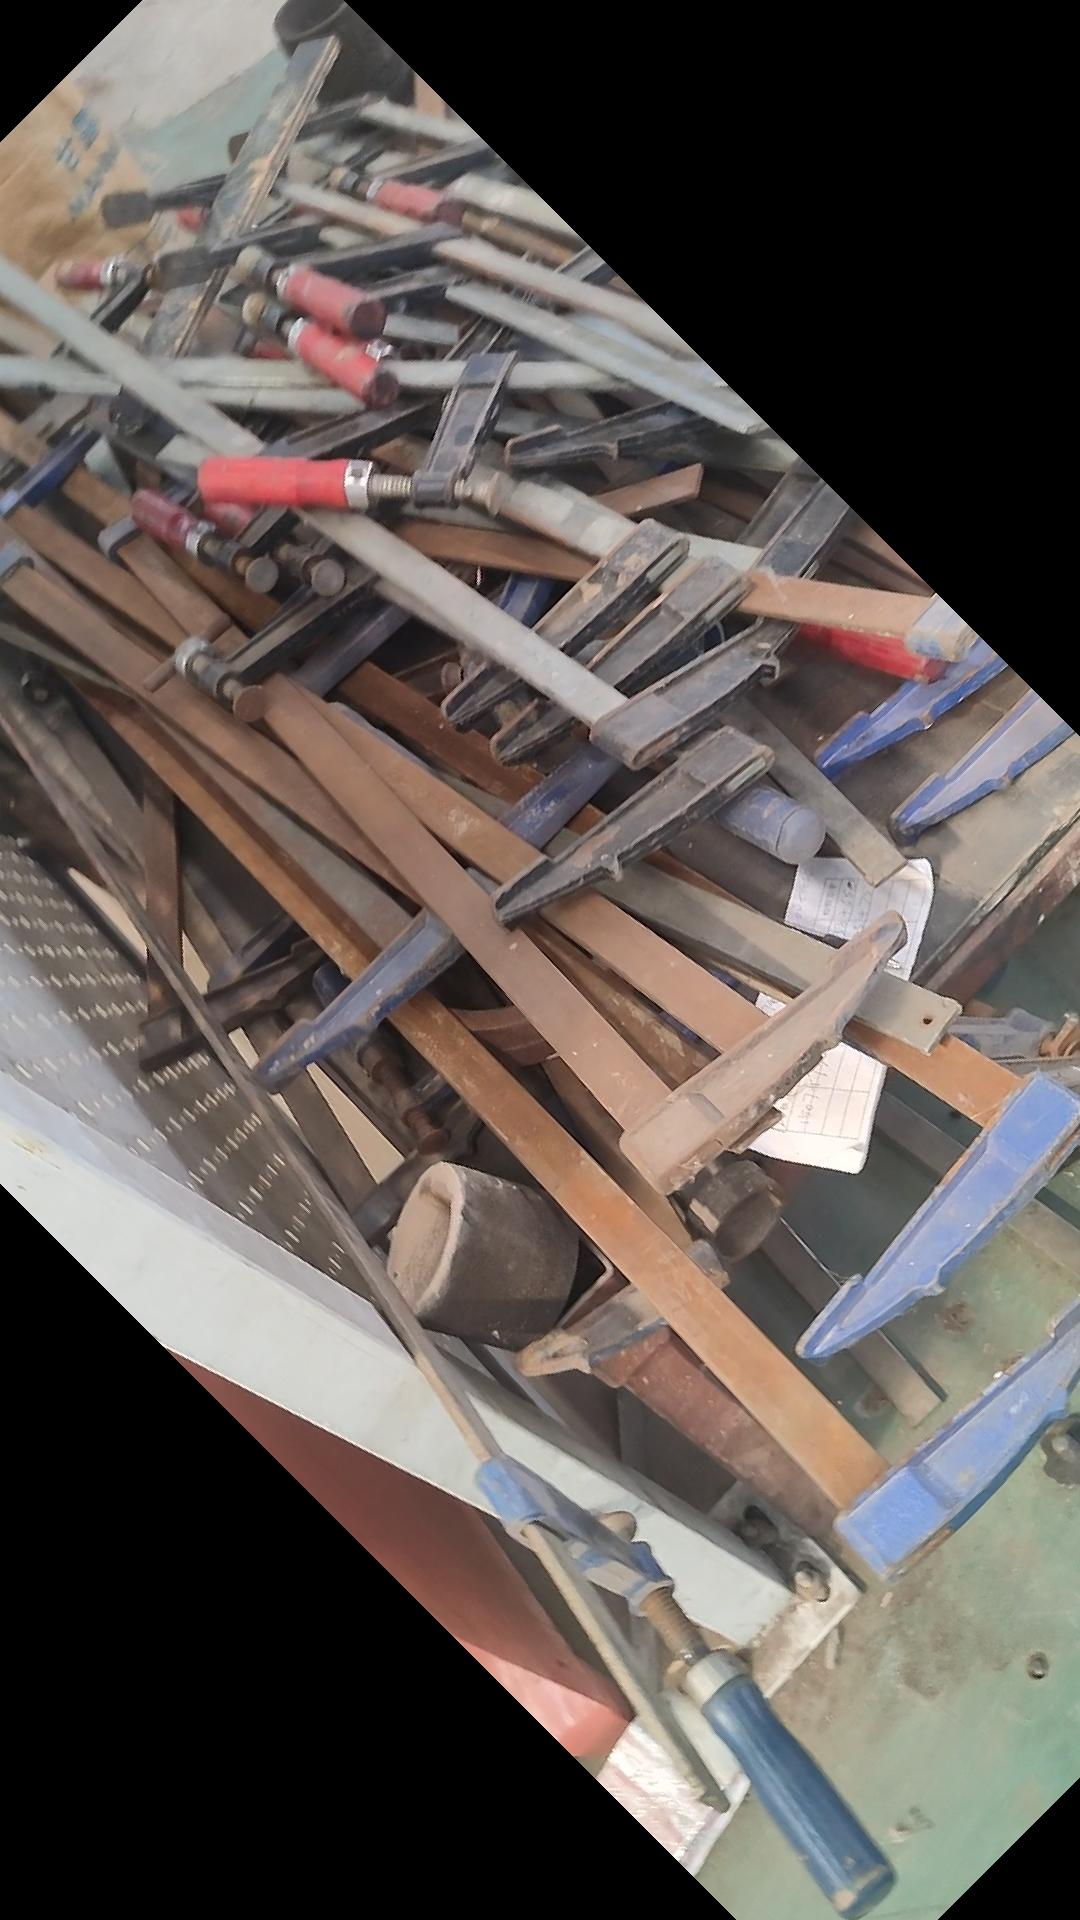pouring hole: (382, 1162, 467, 1308), (265, 1, 345, 40)
